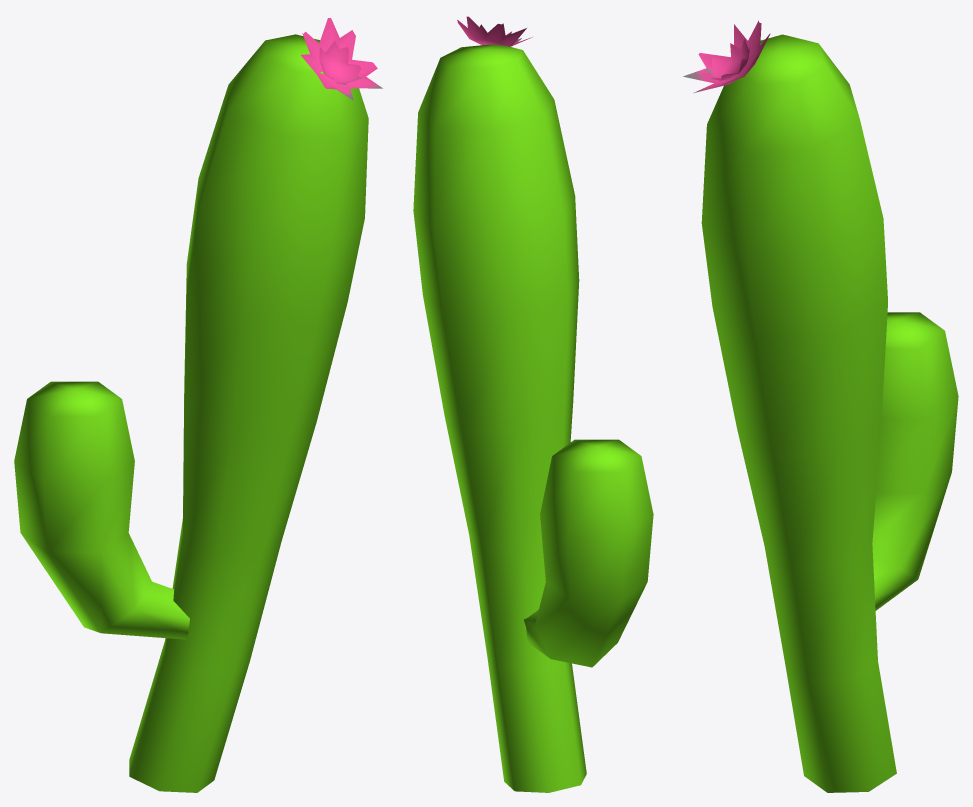
File: Middle_CacFlower.fbx
3 views of the same model, side by side, from view 1: azimuth 30°, elevation 25°; view 2: azimuth 150°, elevation 25°; view 3: azimuth 270°, elevation 25° (orthographic). The views are drawn at different scales.
Parts seen in each view (by area): view 1: LargeCac_Limp1; view 2: LargeCac_Limp1; view 3: LargeCac_Limp1.
Boxes of the visible parts, x1,y1,x2,y2 form: LargeCac_Limp1: [14, 18, 382, 792]; LargeCac_Limp1: [413, 16, 653, 792]; LargeCac_Limp1: [683, 20, 958, 792].
Bounding box in the file's own units: 3.02 × 8.06 × 2.5.
1 material, 1 textured.
